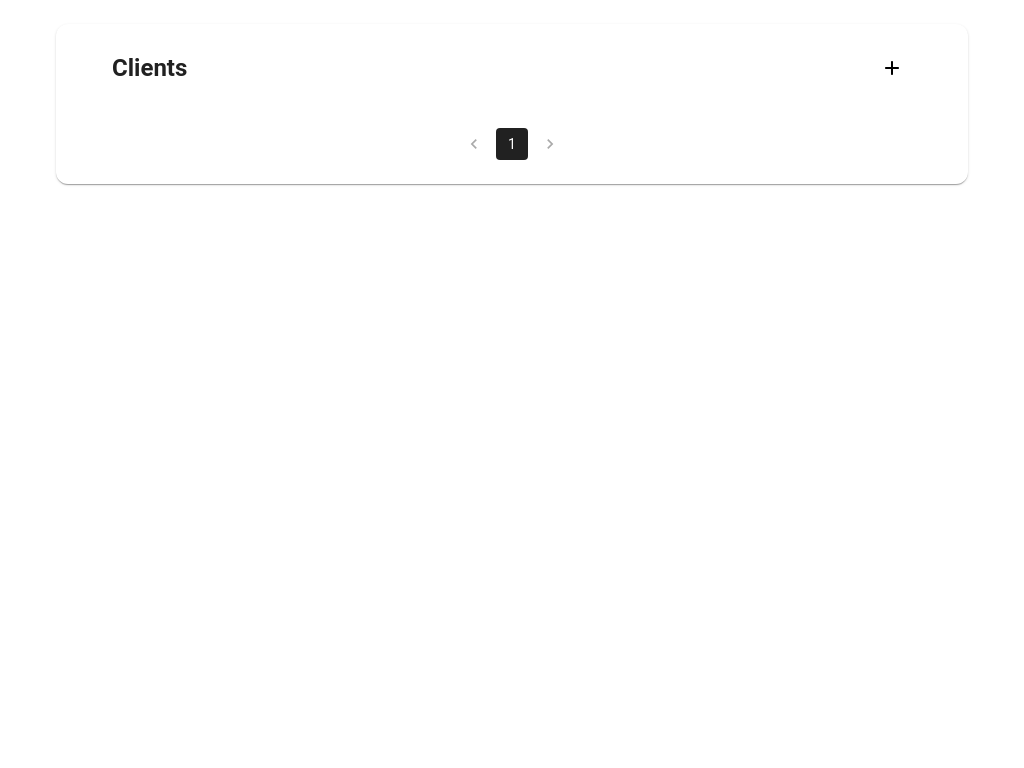
Test case: ClientCards Component › opens and closes Add Client dialog
Click the button named "add client" at coordinates (892, 68), box top-left (872, 48), bottom-right (912, 88)
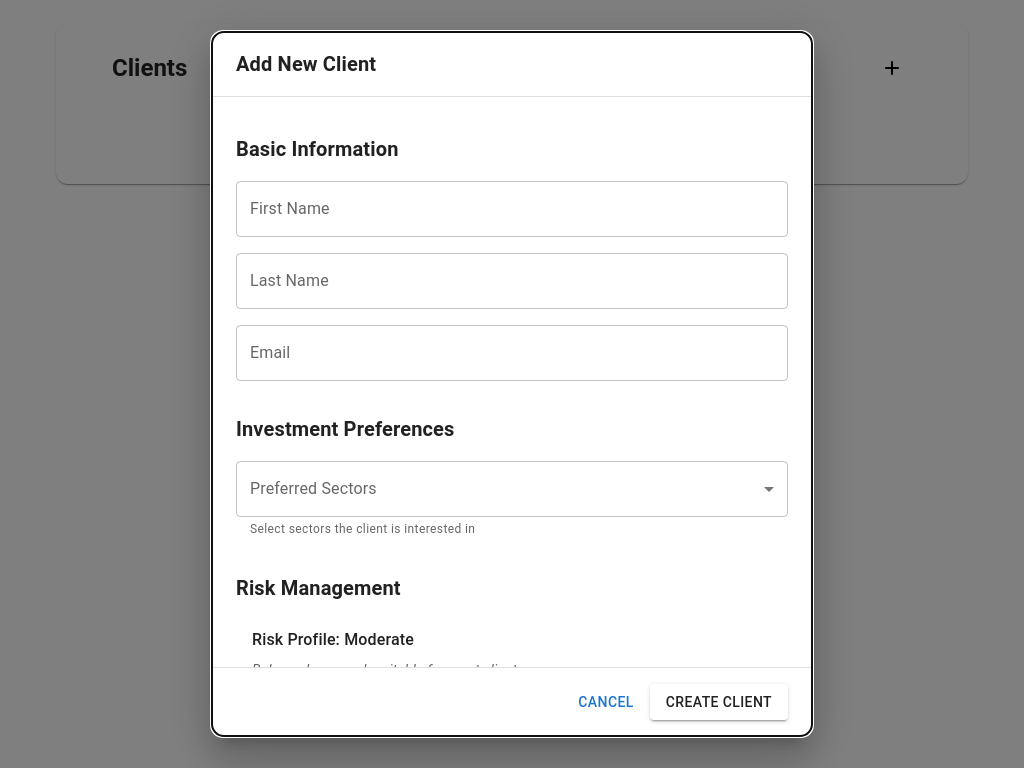
Expected: the heading "Add New Client" is shown, top-left (236, 52), bottom-right (376, 76)
Click the button "Cancel" at coordinates (606, 702), box top-left (570, 684), bottom-right (642, 720)
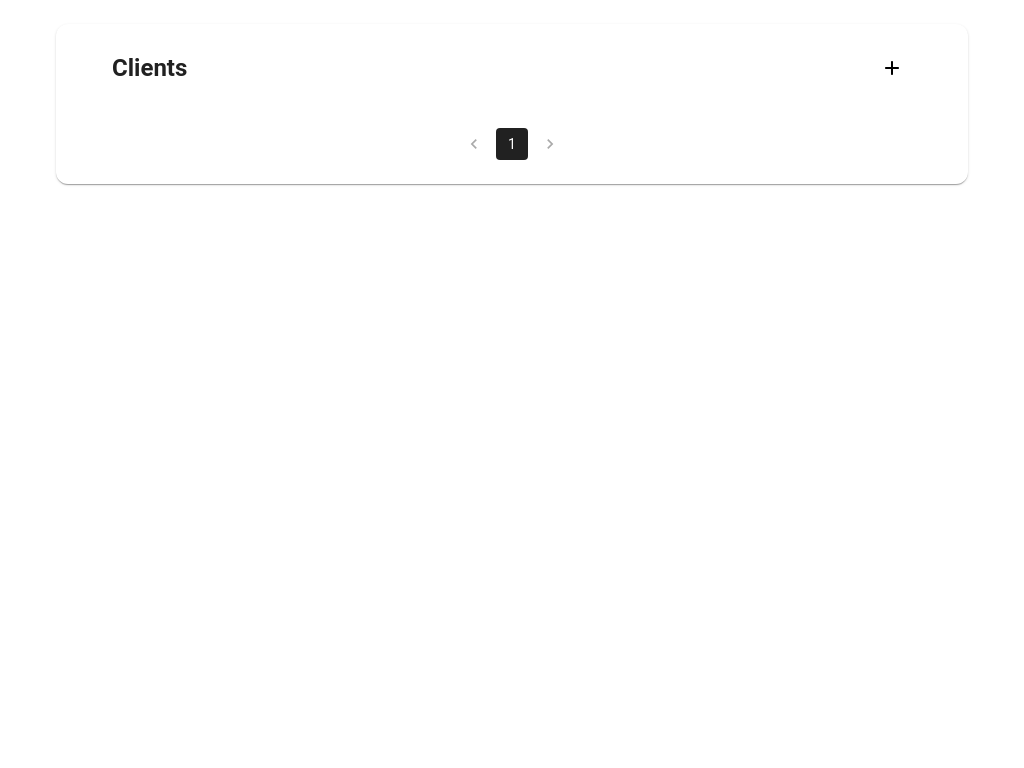
Expected: the heading "Add New Client" is gone
